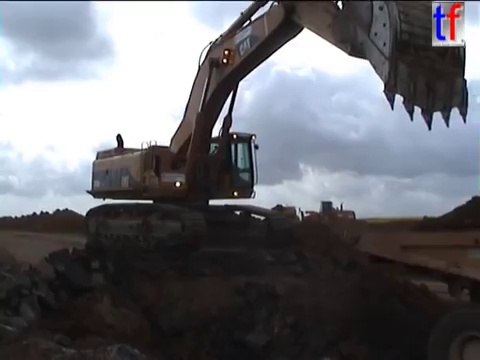excavator: (80, 1, 472, 247), (352, 225, 480, 360)
wheel loader: (271, 199, 358, 234)
